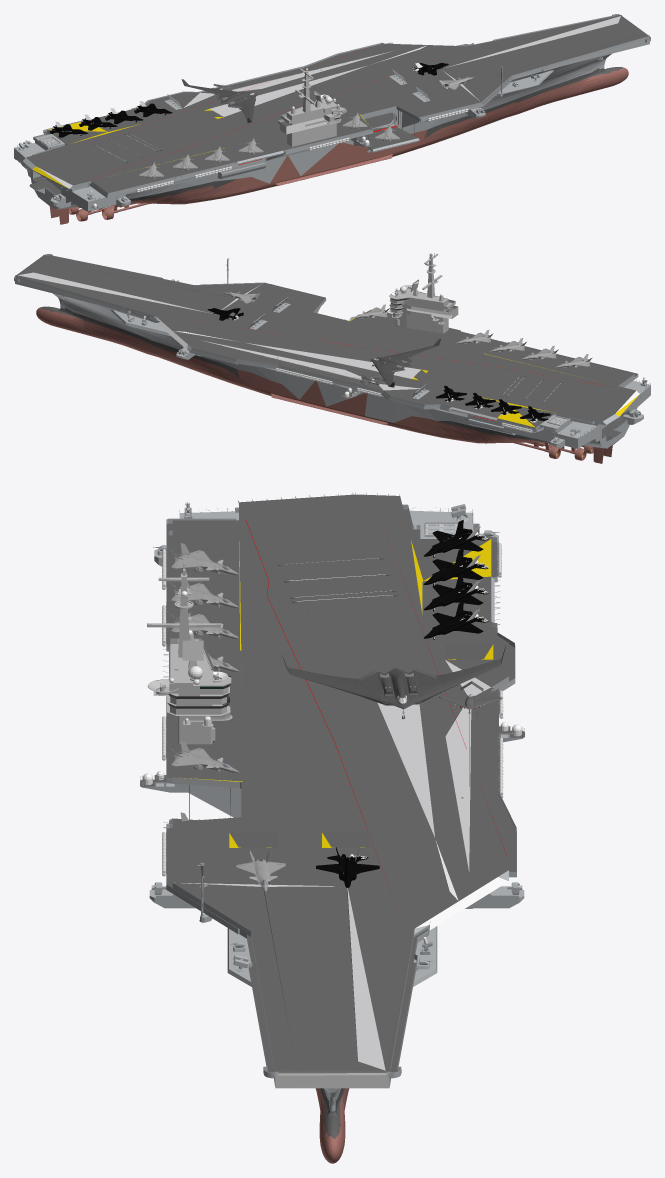
The model's file is carrier.glb.
The picture shows the model from 3 angles, top to bottom: view 1: azimuth 30°, elevation 25°; view 2: azimuth 150°, elevation 25°; view 3: azimuth 270°, elevation 25°; orthographic projection. The views are drawn at different scales.
Visible parts, largest first — view 1: Carrier; view 2: Carrier; view 3: Carrier, group_6.005_ID202_copy26, group_6.005_ID202_copy25, group_6.005_ID202_copy28, group_6.005_ID202_copy27, group_6.005_ID202_copy36, Mesh2_copy660, Mesh2_copy665.
Boxes of the visible parts, box(x1,y1,x2,y2) form: Carrier: box(14, 14, 650, 224); Carrier: box(14, 253, 650, 463); Carrier: box(140, 492, 524, 1163); group_6.005_ID202_copy26: box(423, 573, 488, 611); group_6.005_ID202_copy25: box(424, 602, 488, 639); group_6.005_ID202_copy28: box(424, 520, 488, 557); group_6.005_ID202_copy27: box(423, 548, 488, 585); group_6.005_ID202_copy36: box(316, 846, 379, 888); Mesh2_copy660: box(169, 741, 240, 773); Mesh2_copy665: box(170, 543, 239, 575).
Bounding box in the file's own units: 26.64 × 5.56 × 7.41.
